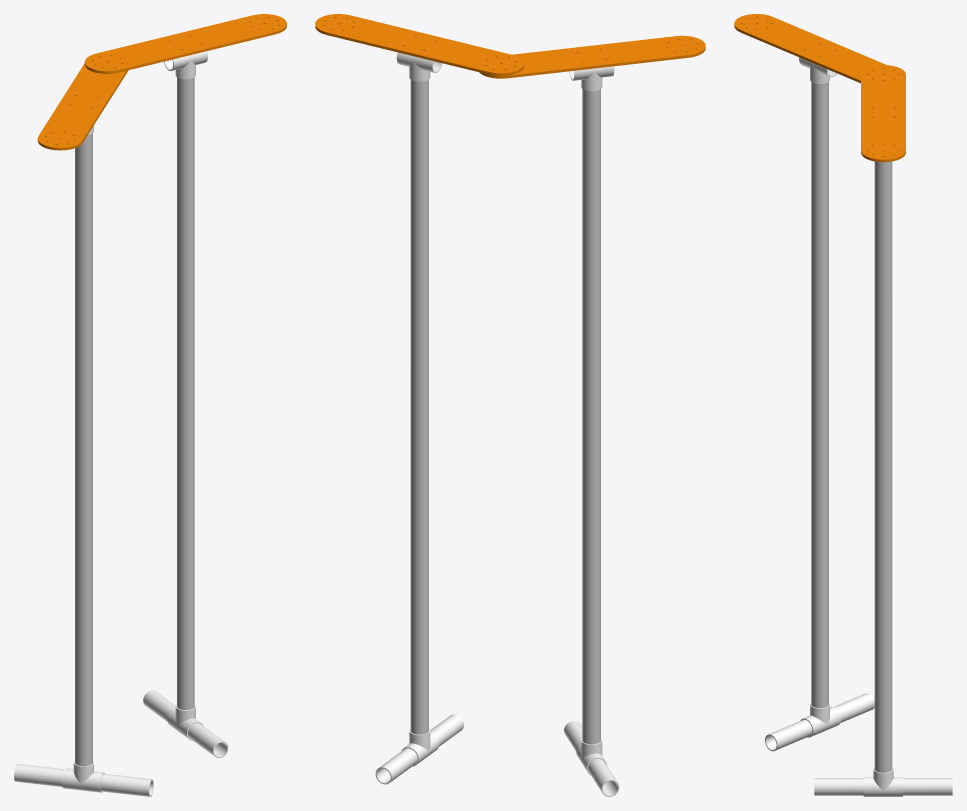
The model's file is Path.fbx.
3 views of the same model, side by side, from view 1: azimuth 30°, elevation 25°; view 2: azimuth 150°, elevation 25°; view 3: azimuth 270°, elevation 25° (orthographic). The views are drawn at different scales.
Visible parts, largest first — view 1: Body_1_11, Body_1_4, Body_1, Body_1_2, Body_1_7, Body_1_5, Body_1_6, Body_1_9, Body_1_12, Body_1_8, Body_1_10; view 2: Body_1_11, Body_1_4, Body_1, Body_1_2, Body_1_10, Body_1_12, Body_1_6, Body_1_3, Body_1_8; view 3: Body_1_11, Body_1_4, Body_1, Body_1_2, Body_1_8, Body_1_9, Body_1_10, Body_1_7, Body_1_5, Body_1_6, Body_1_3.
Boxes of the visible parts, box(x1,y1,x2,y2) form: Body_1_11: box(177, 77, 194, 709); Body_1_4: box(75, 133, 92, 766); Body_1: box(84, 14, 286, 73); Body_1_2: box(37, 63, 128, 150); Body_1_7: box(100, 773, 153, 796); Body_1_5: box(62, 761, 104, 792); Body_1_6: box(14, 764, 64, 786); Body_1_9: box(188, 723, 228, 758); Body_1_12: box(164, 51, 207, 79); Body_1_8: box(167, 704, 203, 740); Body_1_10: box(143, 690, 175, 721); Body_1_11: box(410, 79, 428, 734); Body_1_4: box(582, 89, 600, 744); Body_1: box(315, 14, 524, 75); Body_1_2: box(479, 35, 705, 78); Body_1_10: box(375, 748, 417, 784); Body_1_12: box(396, 52, 442, 81); Body_1_6: box(588, 759, 619, 796); Body_1_3: box(569, 66, 614, 91); Body_1_8: box(401, 729, 439, 766); Body_1_11: box(874, 161, 892, 772); Body_1_4: box(811, 82, 828, 708); Body_1: box(861, 65, 905, 162); Body_1_2: box(734, 14, 885, 83); Body_1_8: box(863, 767, 902, 796); Body_1_9: box(814, 778, 863, 795); Body_1_10: box(903, 778, 952, 795); Body_1_7: box(765, 719, 812, 751); Body_1_5: box(800, 702, 840, 737); Body_1_6: box(834, 693, 874, 722); Body_1_3: box(799, 57, 837, 83).
Bounding box in the file's own units: 1.19 × 0.7417 × 2.56.
